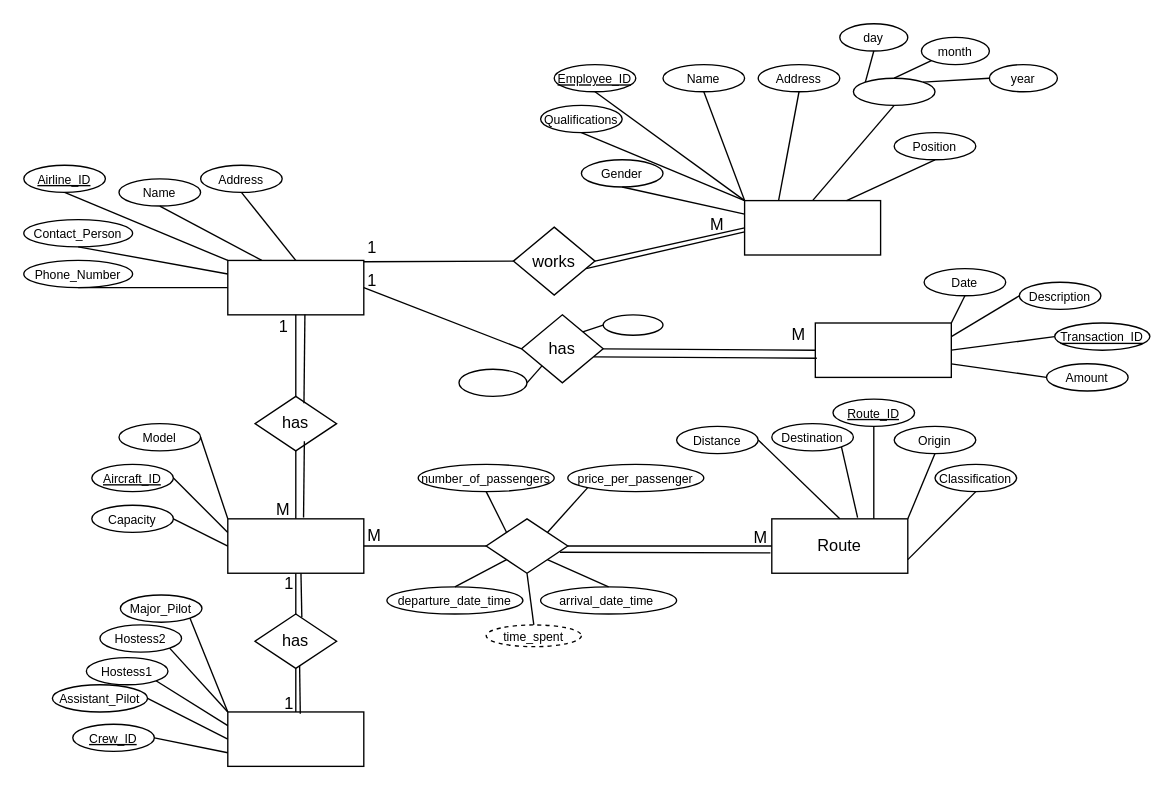
Image size: 1174x790. Some labels were removed from this diagram. Each missing label, with the centre of its shape:
"Aircraft" goes at [295,545].
"Airline" goes at [295,287].
"assigned" goes at [526,545].
"Birthday" goes at [893,91].
"buy" goes at [632,324].
"Crew" goes at [295,738].
"Employee" goes at [812,227].
"sell" goes at [492,382].
"Transaction" goes at [882,349].
